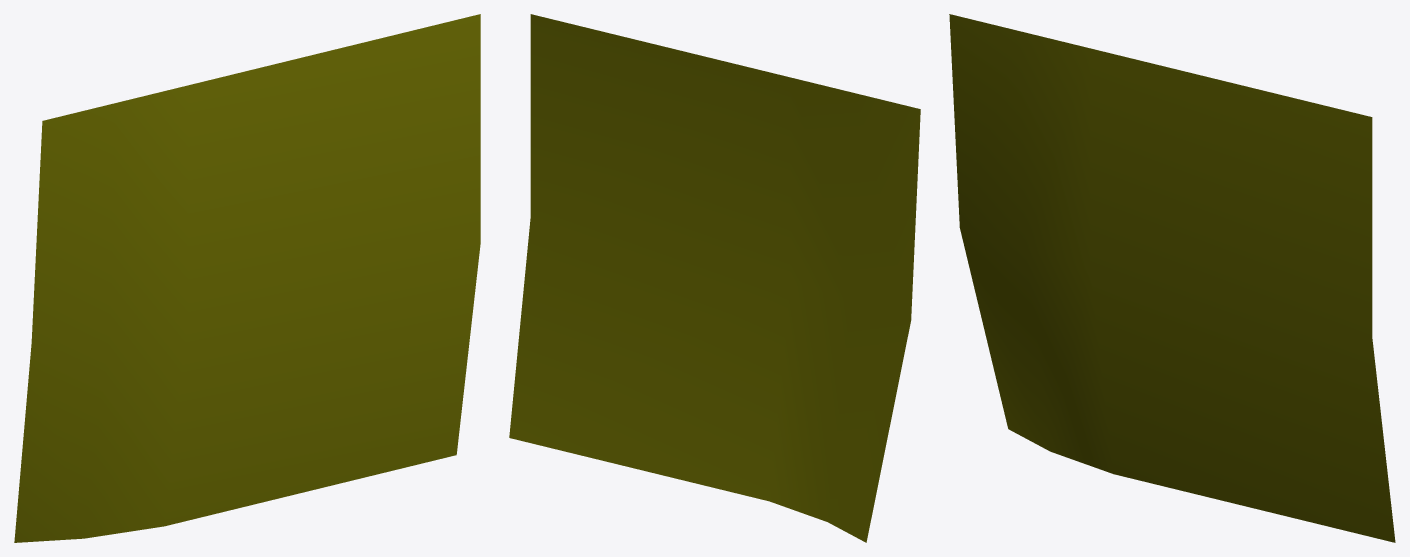
Rendered from StickyNote.fbx.
3 views of the same model, side by side, from view 1: azimuth 30°, elevation 25°; view 2: azimuth 150°, elevation 25°; view 3: azimuth 330°, elevation 25° (orthographic). The views are drawn at different scales.
Visible parts, largest first — view 1: StickyNote_Mat; view 2: StickyNote_Mat; view 3: StickyNote_Mat.
Part boxes in pixels (x1,y1,x2,y2): StickyNote_Mat: (14, 14, 480, 542); StickyNote_Mat: (509, 14, 920, 542); StickyNote_Mat: (949, 14, 1395, 542).
Size of the model in its own units: 18.86 by 18.86 by 3.32.
